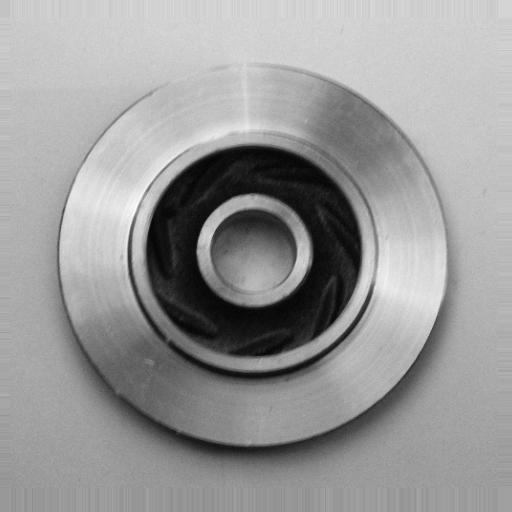unpolished_casting: (55, 59, 453, 453)
